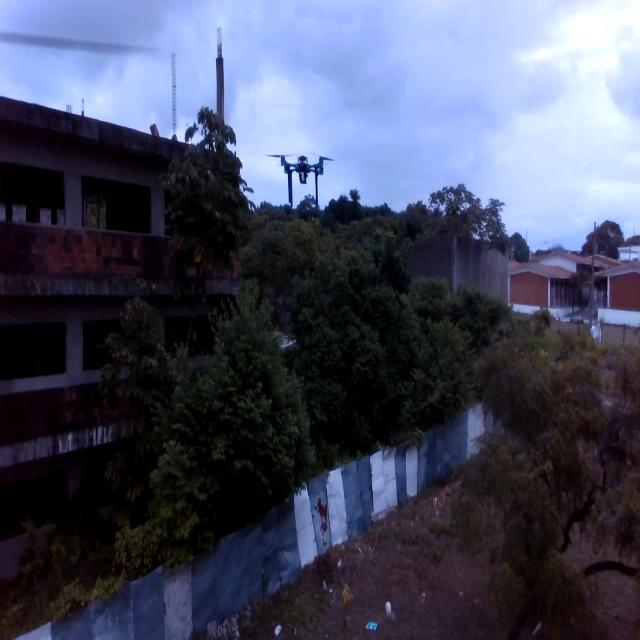-uav-: (266, 141, 334, 213)
